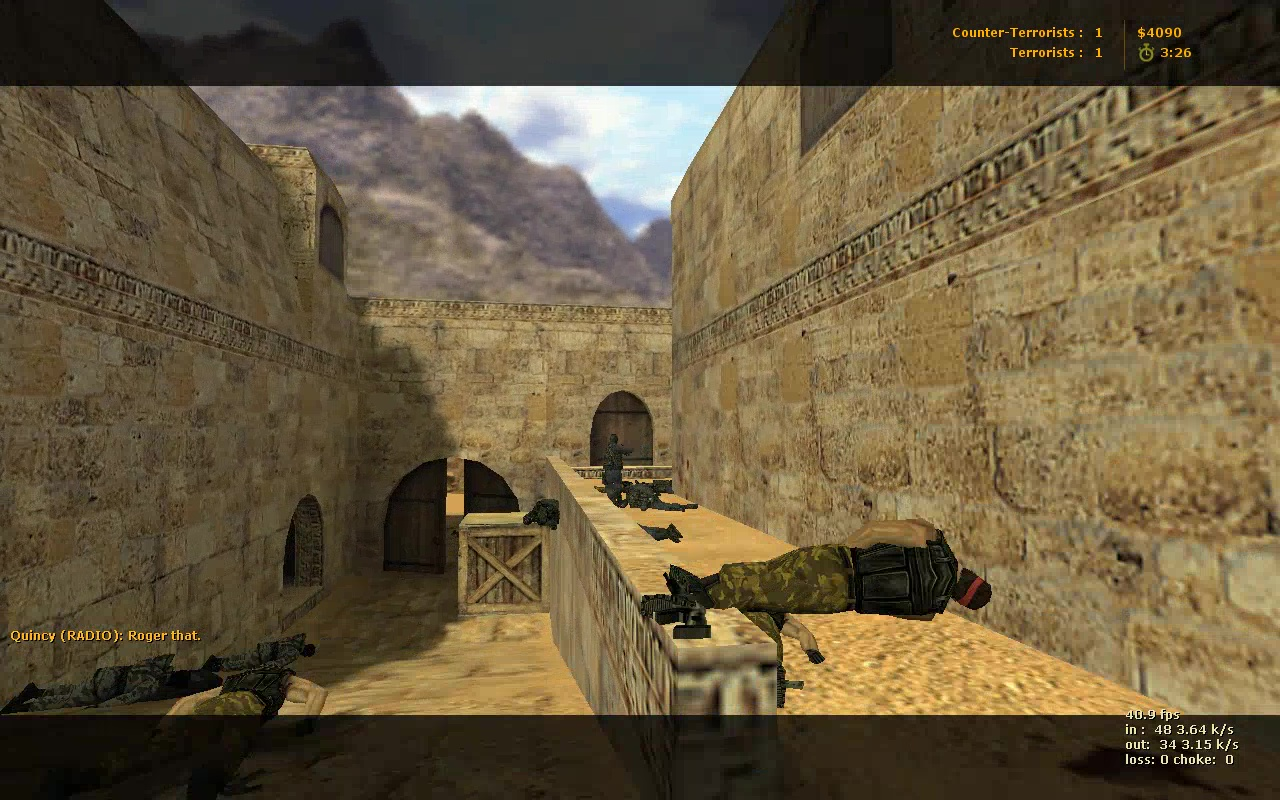ct: (601, 432, 633, 508)
dead: (662, 522, 995, 624), (95, 668, 327, 800), (2, 655, 193, 715), (199, 634, 321, 676), (598, 482, 694, 510)
